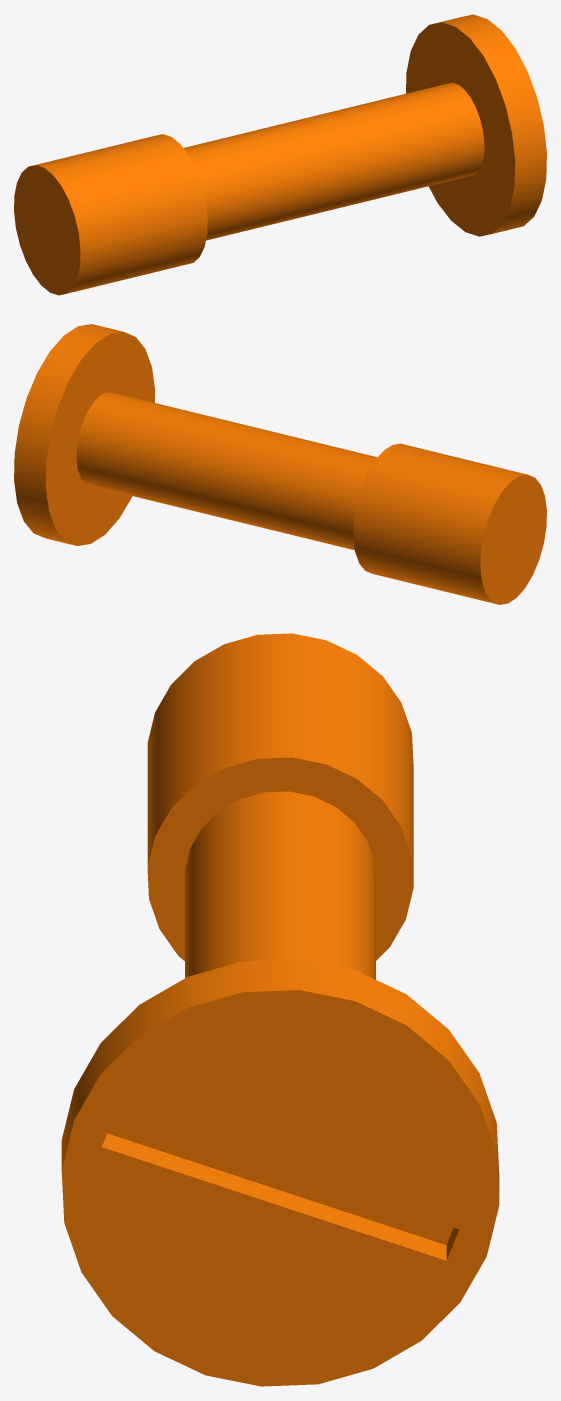
The model's file is original-13.obj.
3 renders of one model, top to bottom at view 1: azimuth 30°, elevation 25°; view 2: azimuth 150°, elevation 25°; view 3: azimuth 270°, elevation 25°, orthographic. The views are drawn at different scales.
Visible parts, largest first — view 1: equo_scrw1/equo_scrw/mesh36/mesh36-geometry#mesh36-geometry; view 2: equo_scrw1/equo_scrw/mesh36/mesh36-geometry#mesh36-geometry; view 3: equo_scrw1/equo_scrw/mesh36/mesh36-geometry#mesh36-geometry.
Boxes of the visible parts, x1=… form: equo_scrw1/equo_scrw/mesh36/mesh36-geometry#mesh36-geometry: x1=14, y1=14, x2=546, y2=295; equo_scrw1/equo_scrw/mesh36/mesh36-geometry#mesh36-geometry: x1=14, y1=324, x2=546, y2=604; equo_scrw1/equo_scrw/mesh36/mesh36-geometry#mesh36-geometry: x1=61, y1=633, x2=499, y2=1386.
Bounding box in the file's own units: 0.0215 × 0.00916 × 0.00916.
